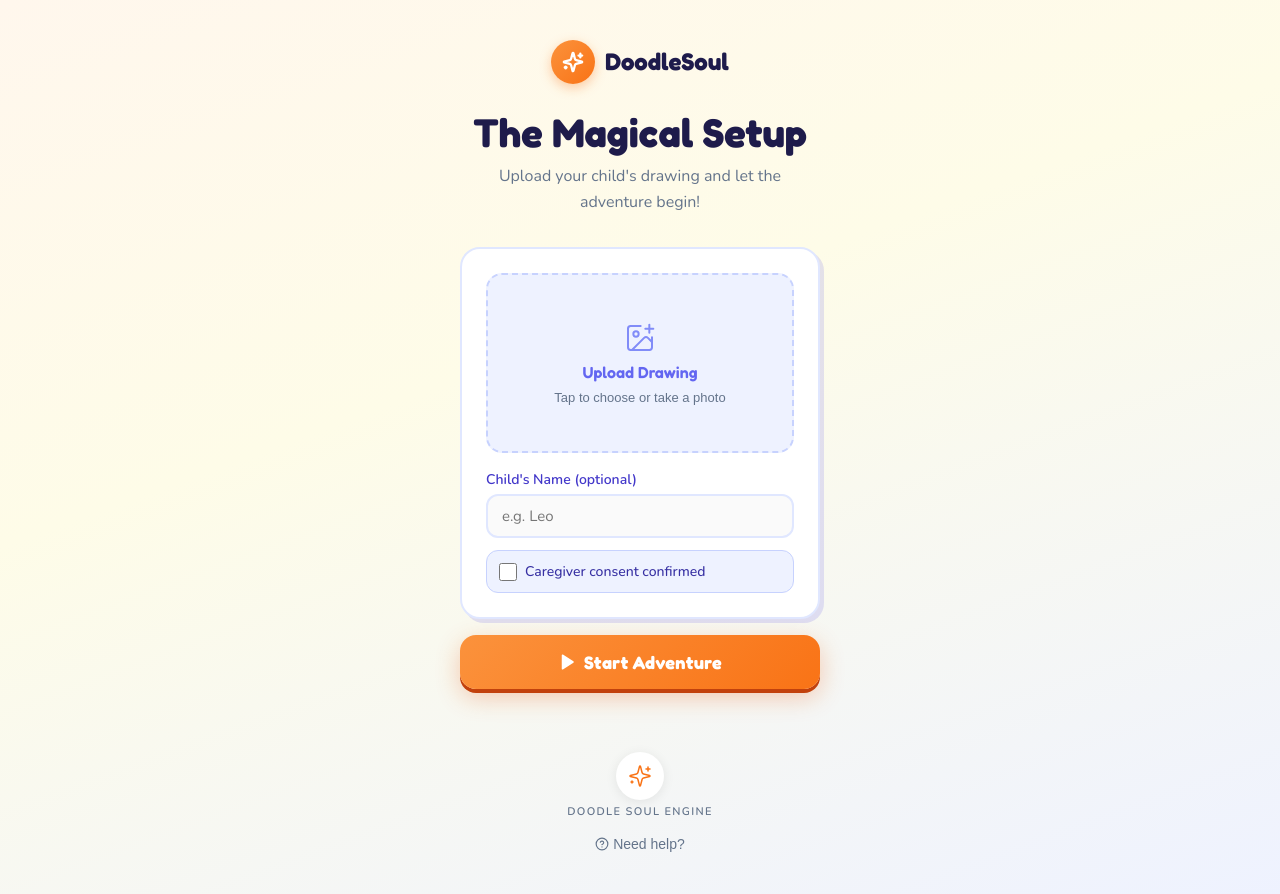
Test: App drawing intake › blocks startup and shows guidance when no drawing has been selected
This screenshot has width=1280, height=894.
Click the checkbox labelled "Caregiver consent confirmed".
click(508, 572)  # box [499,563,517,581]
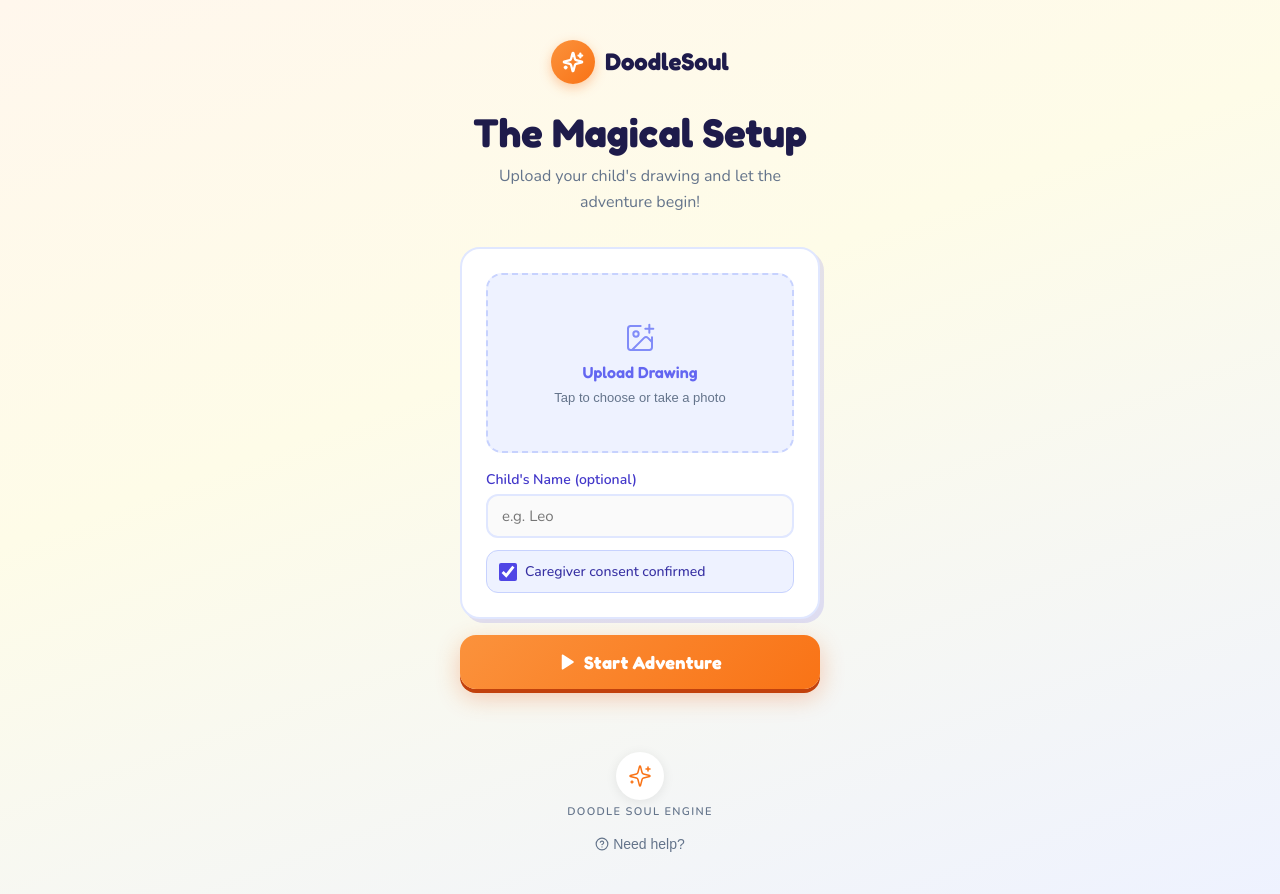
Click the button "Start Adventure".
click(640, 662)  # box [460,635,820,689]
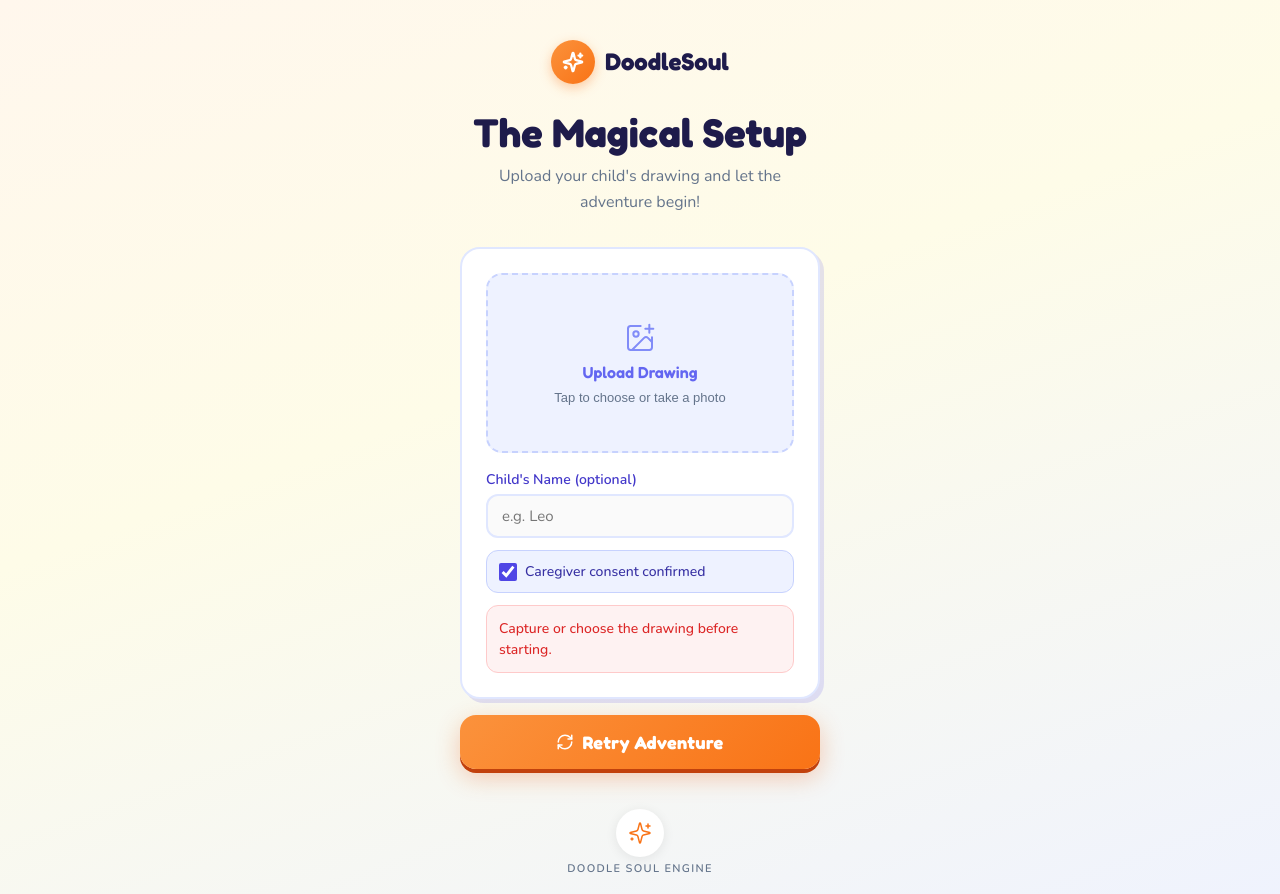
Expected: the text "Capture or choose the drawing before starting." is shown, [486,605,794,673]
